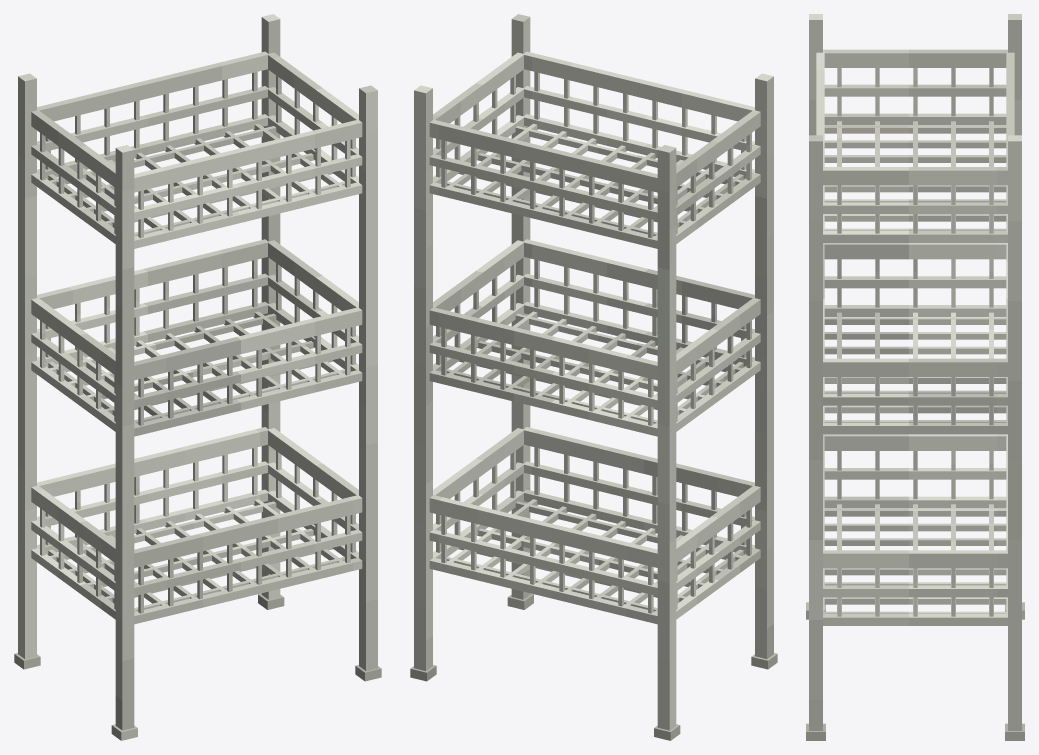
File: plastic-basket-rack.glb
3 renders of one model, left to right at view 1: azimuth 30°, elevation 25°; view 2: azimuth 150°, elevation 25°; view 3: azimuth 270°, elevation 25°, orthographic. The views are drawn at different scales.
Visible parts, largest first — view 1: plastic-basket-rack/post-0-0, plastic-basket-rack/post-1-0, plastic-basket-rack/post-0-1, plastic-basket-rack/L3-lip-frontback--1, plastic-basket-rack/L2-lip-frontback--1, plastic-basket-rack/L1-lip-frontback--1, plastic-basket-rack/post-1-1, plastic-basket-rack/L3-lip-frontback-1, plastic-basket-rack/L1-lip-frontback-1, plastic-basket-rack/L2-lip-frontback-1, plastic-basket-rack/L2-lower-frontback--1, plastic-basket-rack/L1-lower-frontback--1 (+37 smaller); view 2: plastic-basket-rack/post-0-1, plastic-basket-rack/post-1-1, plastic-basket-rack/post-0-0, plastic-basket-rack/L3-lip-frontback-1, plastic-basket-rack/L2-lip-frontback-1, plastic-basket-rack/L1-lip-frontback-1, plastic-basket-rack/post-1-0, plastic-basket-rack/L3-lip-frontback--1, plastic-basket-rack/L1-lip-frontback--1, plastic-basket-rack/L2-lip-frontback--1, plastic-basket-rack/L2-lower-frontback-1, plastic-basket-rack/L3-lower-frontback-1 (+37 smaller); view 3: plastic-basket-rack/post-1-0, plastic-basket-rack/post-1-1, plastic-basket-rack/L1-lip-side-1, plastic-basket-rack/L3-lip-side-1, plastic-basket-rack/L2-lip-side-1, plastic-basket-rack/L3-lip-side--1, plastic-basket-rack/L1-lip-side--1, plastic-basket-rack/L2-lip-side--1, plastic-basket-rack/L1-middle-side-1, plastic-basket-rack/L2-middle-side-1, plastic-basket-rack/L2-lower-side-1, plastic-basket-rack/L2-middle-side--1 (+33 smaller).
Boxes of the visible parts, x1,y1,x2,y2 form: plastic-basket-rack/post-0-0: (115, 145, 134, 730); plastic-basket-rack/post-1-0: (359, 85, 377, 670); plastic-basket-rack/post-0-1: (18, 73, 36, 658); plastic-basket-rack/L3-lip-frontback--1: (134, 119, 362, 192); plastic-basket-rack/L2-lip-frontback--1: (134, 307, 362, 380); plastic-basket-rack/L1-lip-frontback--1: (134, 495, 362, 567); plastic-basket-rack/post-1-1: (261, 14, 280, 599); plastic-basket-rack/L3-lip-frontback-1: (35, 51, 270, 121); plastic-basket-rack/L1-lip-frontback-1: (35, 427, 270, 496); plastic-basket-rack/L2-lip-frontback-1: (37, 239, 270, 308); plastic-basket-rack/L2-lower-frontback--1: (134, 369, 362, 436); plastic-basket-rack/L1-lower-frontback--1: (134, 557, 362, 624); plastic-basket-rack/post-0-1: (657, 145, 676, 730); plastic-basket-rack/post-1-1: (414, 85, 432, 670); plastic-basket-rack/post-0-0: (755, 73, 773, 658); plastic-basket-rack/L3-lip-frontback-1: (429, 119, 657, 192); plastic-basket-rack/L2-lip-frontback-1: (429, 307, 657, 380); plastic-basket-rack/L1-lip-frontback-1: (429, 495, 657, 567); plastic-basket-rack/post-1-0: (511, 14, 530, 599); plastic-basket-rack/L3-lip-frontback--1: (521, 51, 756, 121); plastic-basket-rack/L1-lip-frontback--1: (521, 427, 756, 496); plastic-basket-rack/L2-lip-frontback--1: (521, 239, 756, 308); plastic-basket-rack/L2-lower-frontback-1: (429, 369, 657, 436); plastic-basket-rack/L3-lower-frontback-1: (429, 182, 657, 248); plastic-basket-rack/post-1-0: (809, 135, 822, 730); plastic-basket-rack/post-1-1: (1008, 135, 1021, 730); plastic-basket-rack/L1-lip-side-1: (823, 550, 1007, 568); plastic-basket-rack/L3-lip-side-1: (823, 167, 1007, 185); plastic-basket-rack/L2-lip-side-1: (823, 358, 1007, 376); plastic-basket-rack/L3-lip-side--1: (823, 49, 1007, 67); plastic-basket-rack/L1-lip-side--1: (823, 434, 1007, 450); plastic-basket-rack/L2-lip-side--1: (823, 243, 1007, 259); plastic-basket-rack/L1-middle-side-1: (823, 585, 1007, 597); plastic-basket-rack/L2-middle-side-1: (823, 393, 1007, 405); plastic-basket-rack/L2-lower-side-1: (823, 422, 1007, 434); plastic-basket-rack/L2-middle-side--1: (824, 276, 1006, 288).
Size of the model in its own units: 0.4355 by 0.9375 by 0.3105.
1 material, 1 textured.
